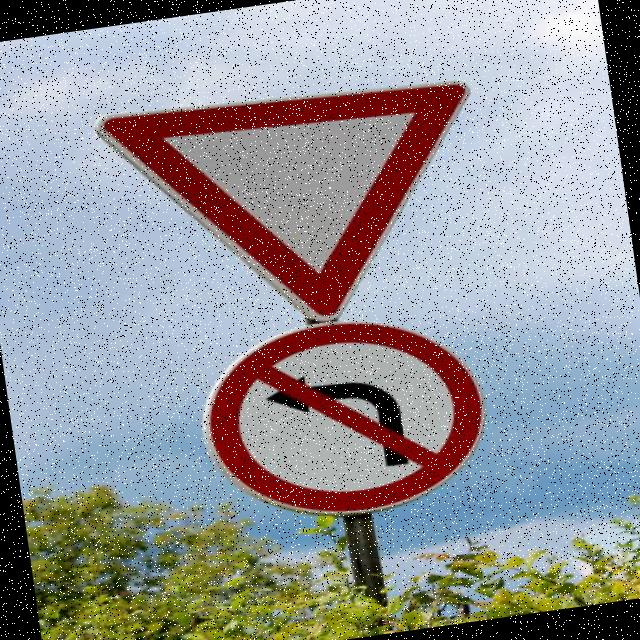give_way: (88, 55, 519, 352)
